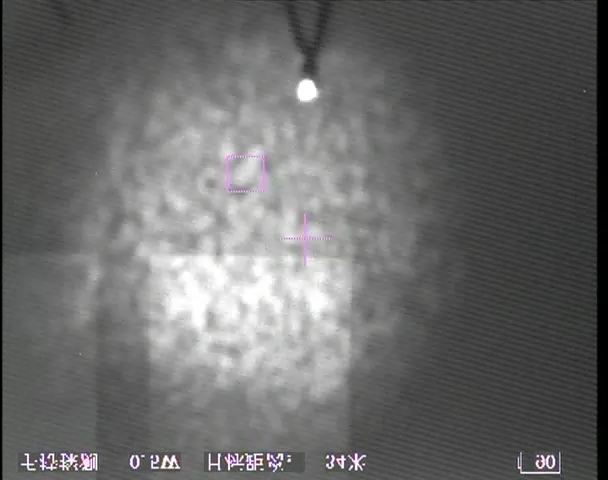my: (295, 76, 318, 103)
